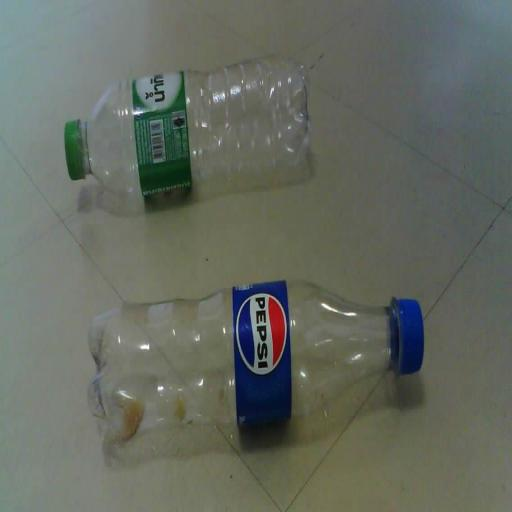bottle: (90, 278, 422, 452), (66, 59, 313, 210)
